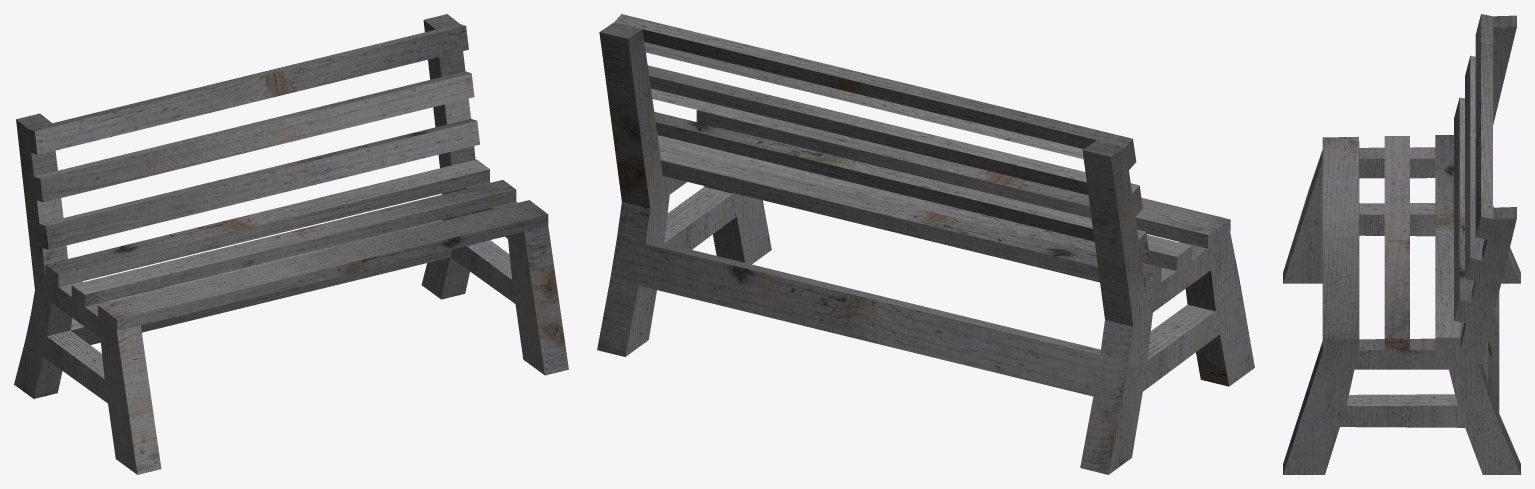
File: bench.glb
3 renders of one model, left to right at view 1: azimuth 30°, elevation 25°; view 2: azimuth 150°, elevation 25°; view 3: azimuth 270°, elevation 25°, orthographic. The views are drawn at different scales.
Parts seen in each view (by area): view 1: bench; view 2: bench; view 3: bench.
Part boxes in pixels (x1,y1,x2,y2): bench: [14, 14, 568, 474]; bench: [597, 14, 1254, 474]; bench: [1283, 14, 1520, 474].
Bounding box in the file's own units: 1.9 × 1.13 × 0.9441.
1 material, 1 textured.
